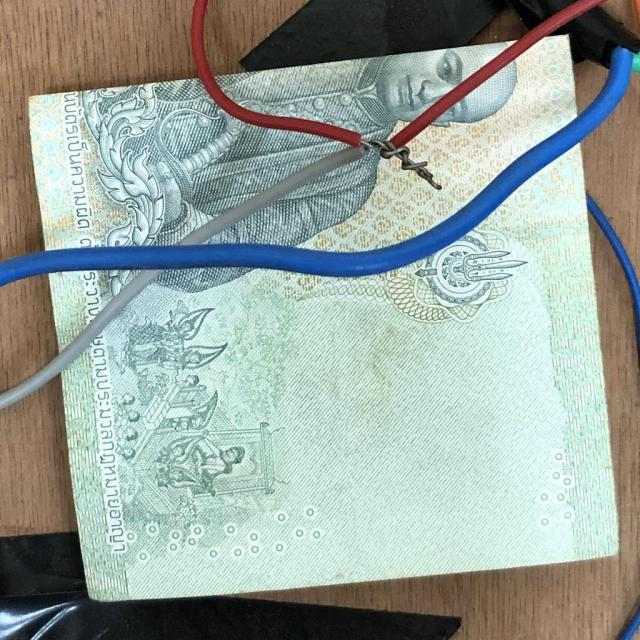THAI20: (46, 148, 620, 603), (28, 34, 580, 254), (216, 42, 511, 139)
